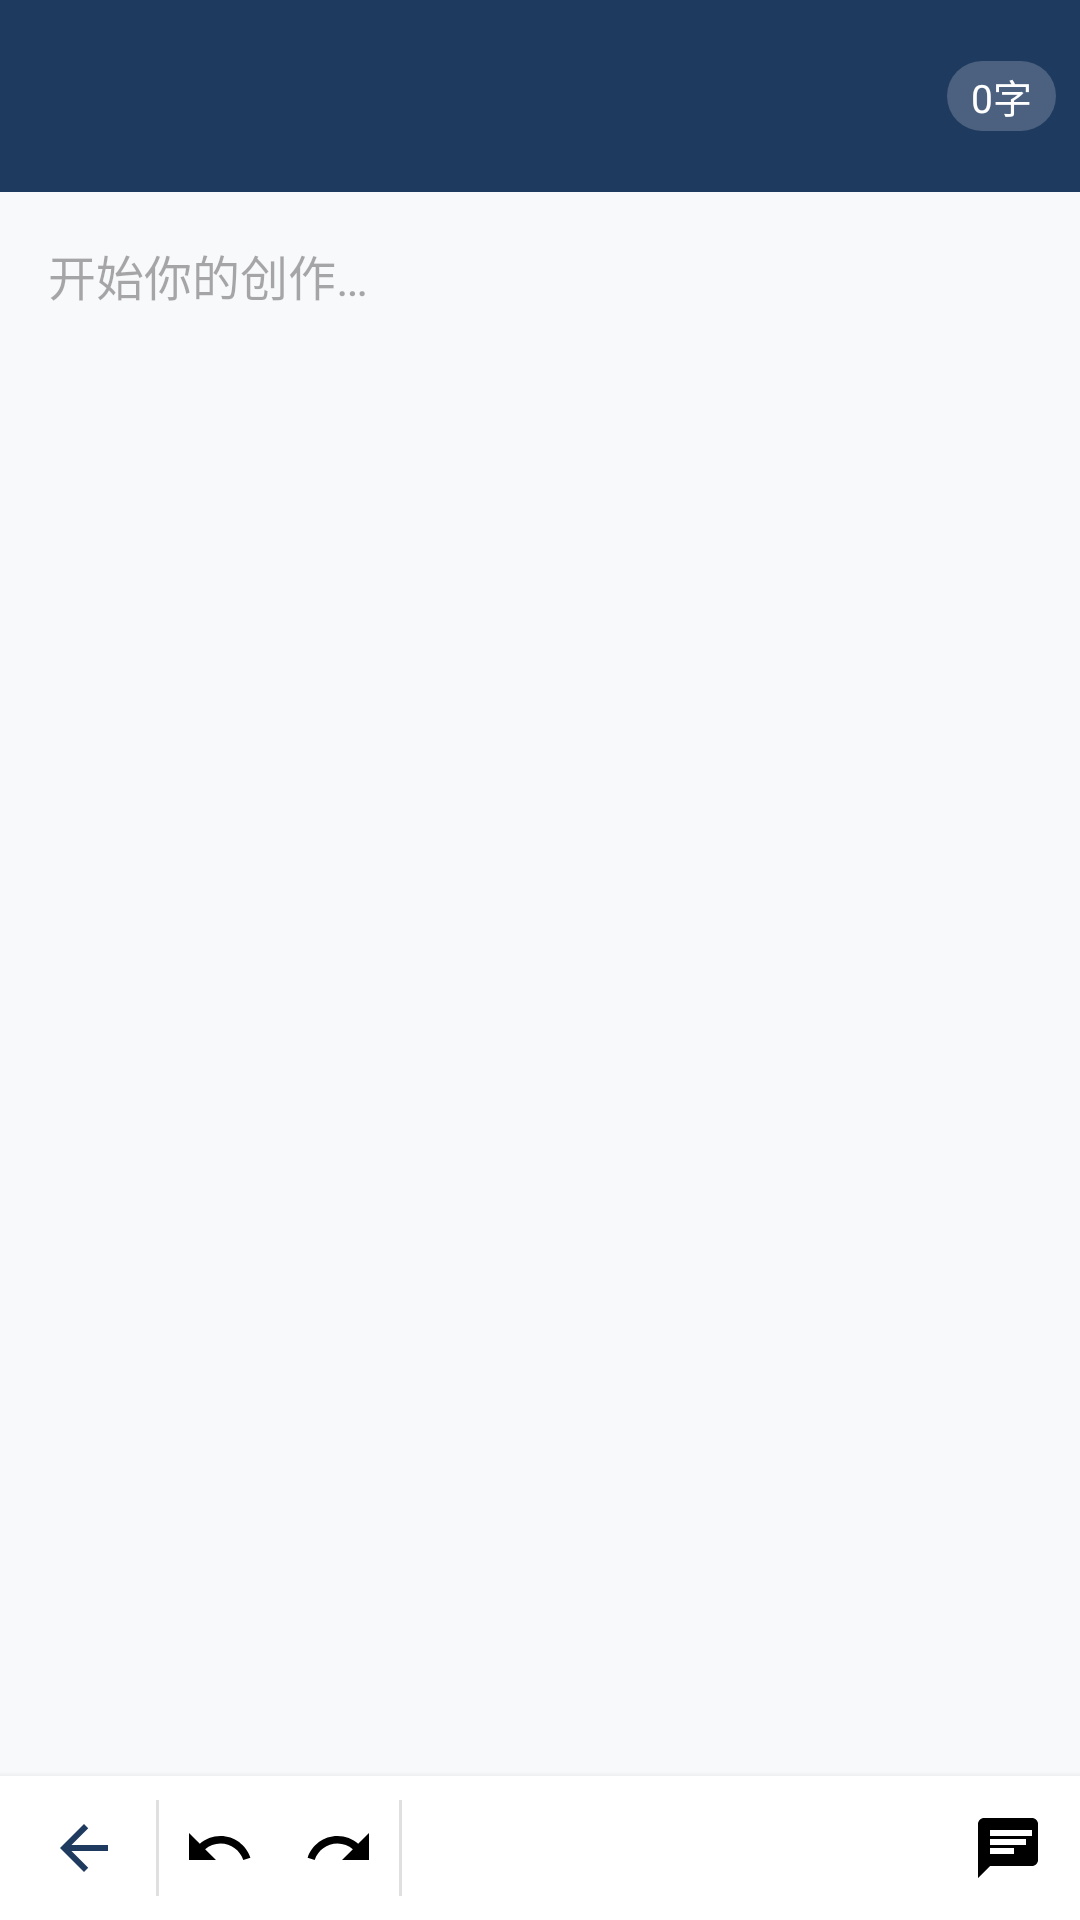

Screen size 1080 x 1920. Icon name, then its center in pixels as (x,y):
保存并返回: (84,1848)
常用句式: (1008,1848)
撤销: (220,1846)
重做: (338,1846)
